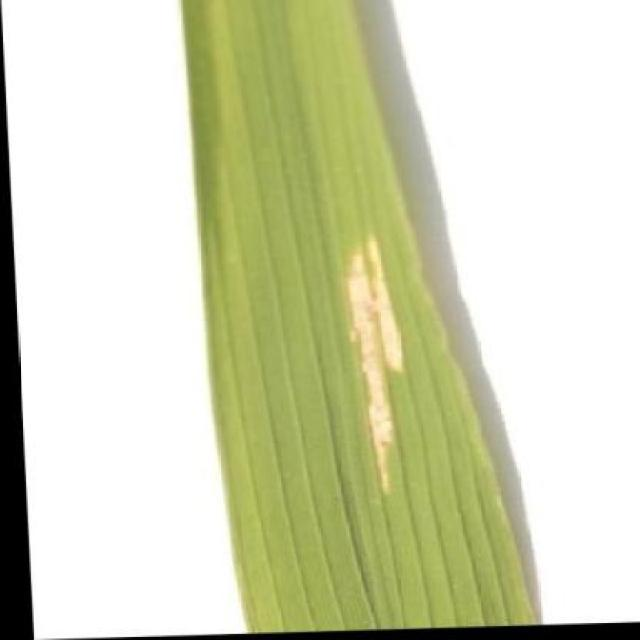Brown_Spot: (292, 228, 454, 522)
